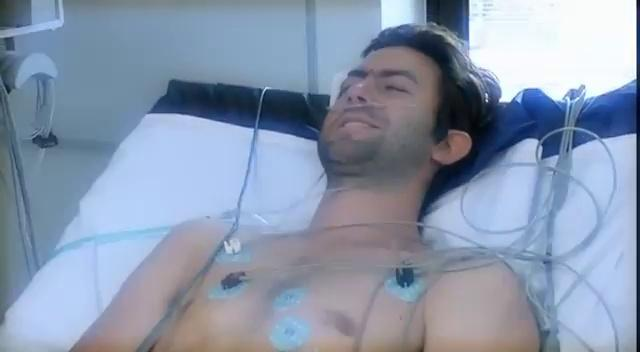patient: (67, 21, 544, 350)
